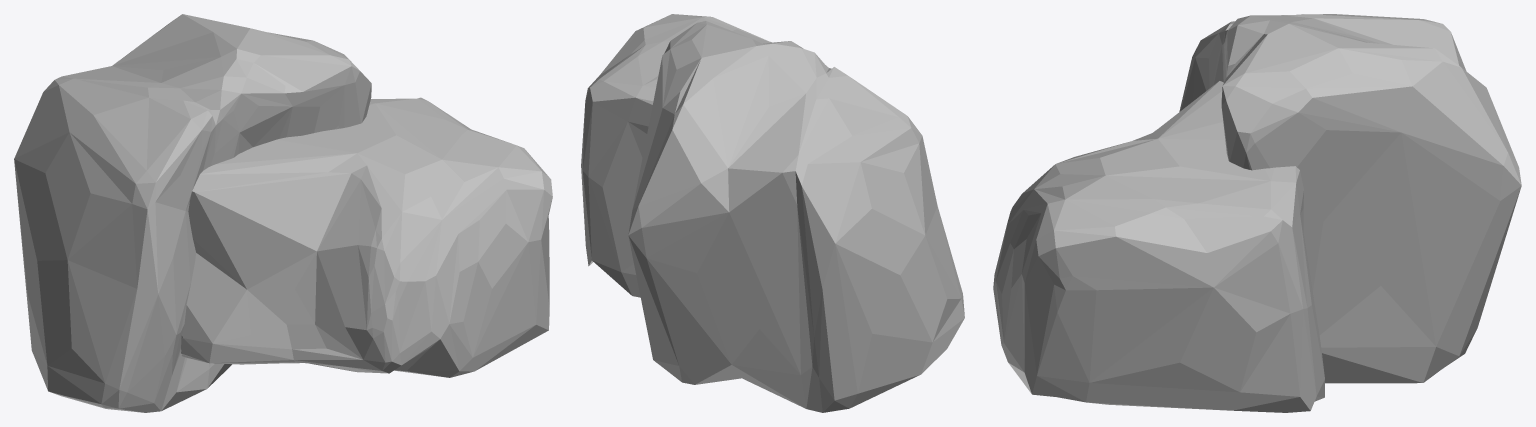
Rendered from Rock_039.fbx.
3 renders of one model, left to right at view 1: azimuth 30°, elevation 25°; view 2: azimuth 150°, elevation 25°; view 3: azimuth 270°, elevation 25°, orthographic. The views are drawn at different scales.
Visible parts, largest first — view 1: Rock_039; view 2: Rock_039; view 3: Rock_039.
Part boxes in pixels (x1,y1,x2,y2): Rock_039: (14, 14, 552, 412); Rock_039: (581, 14, 964, 412); Rock_039: (993, 14, 1521, 412).
Bounding box in the file's own units: 342 × 355 × 259.
1 material, 1 textured.
